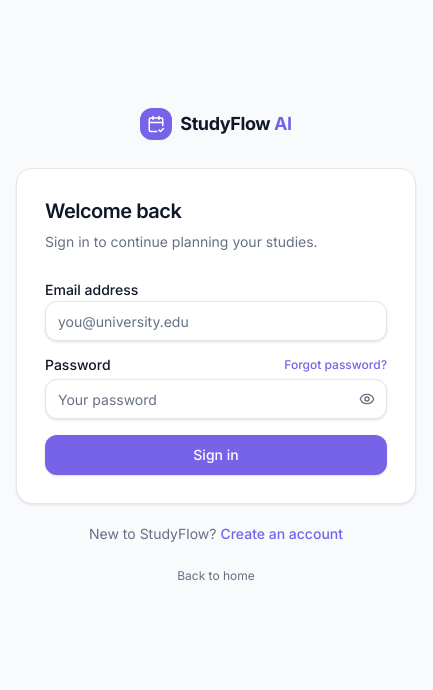
sign-in › scenario 6: the "Create an account" link reaches the sign-up page
Step 1. Click the link "Create an account" → {"x": 282, "y": 534}, box [220,525,343,542]
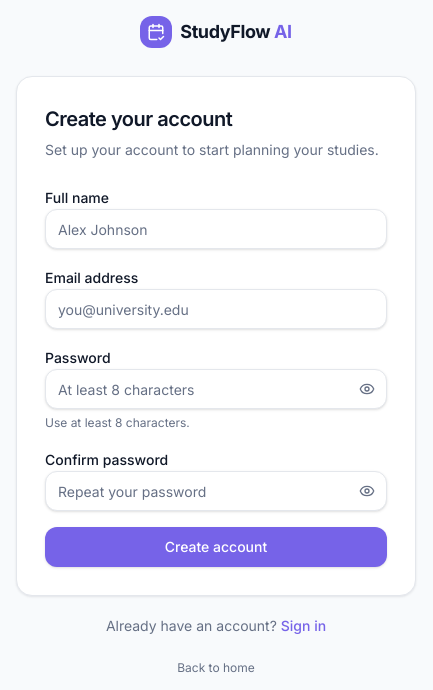
Now the heading "Create your account" is shown, box [45,107,232,131]
Now the link "Sign in" is shown, box [281,617,326,634]
